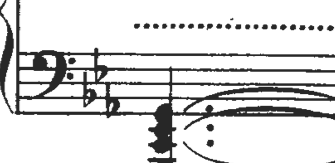bass_clef: (25, 41, 81, 109)
flat: (99, 78, 122, 122), (90, 41, 111, 84), (77, 71, 98, 109)
